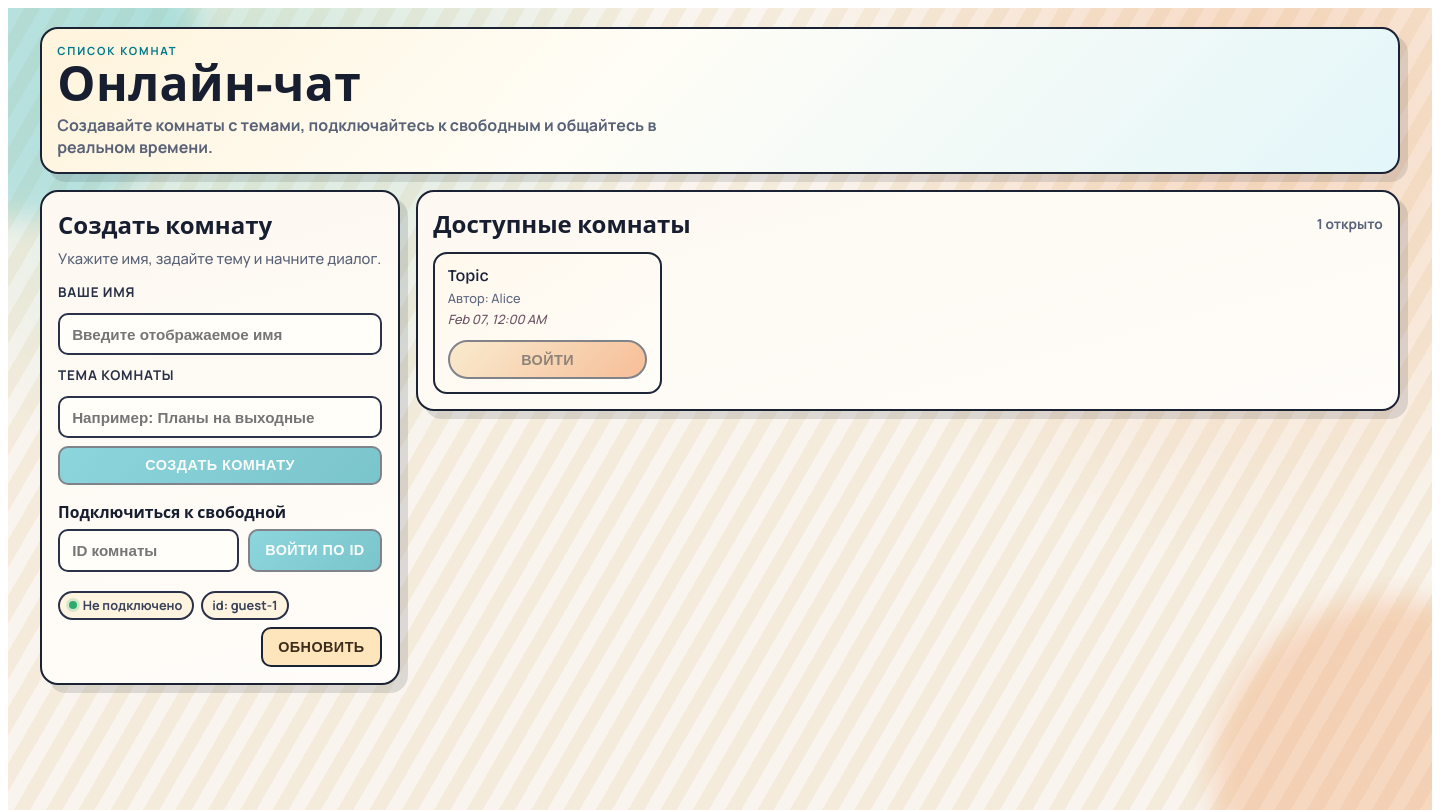
Test: App › renders participant disconnected system event in room chat
This screenshot has width=1440, height=810.
Type "Bob" into the field with id "user-name" at {"x": 220, "y": 334}, box [58,313,382,355]
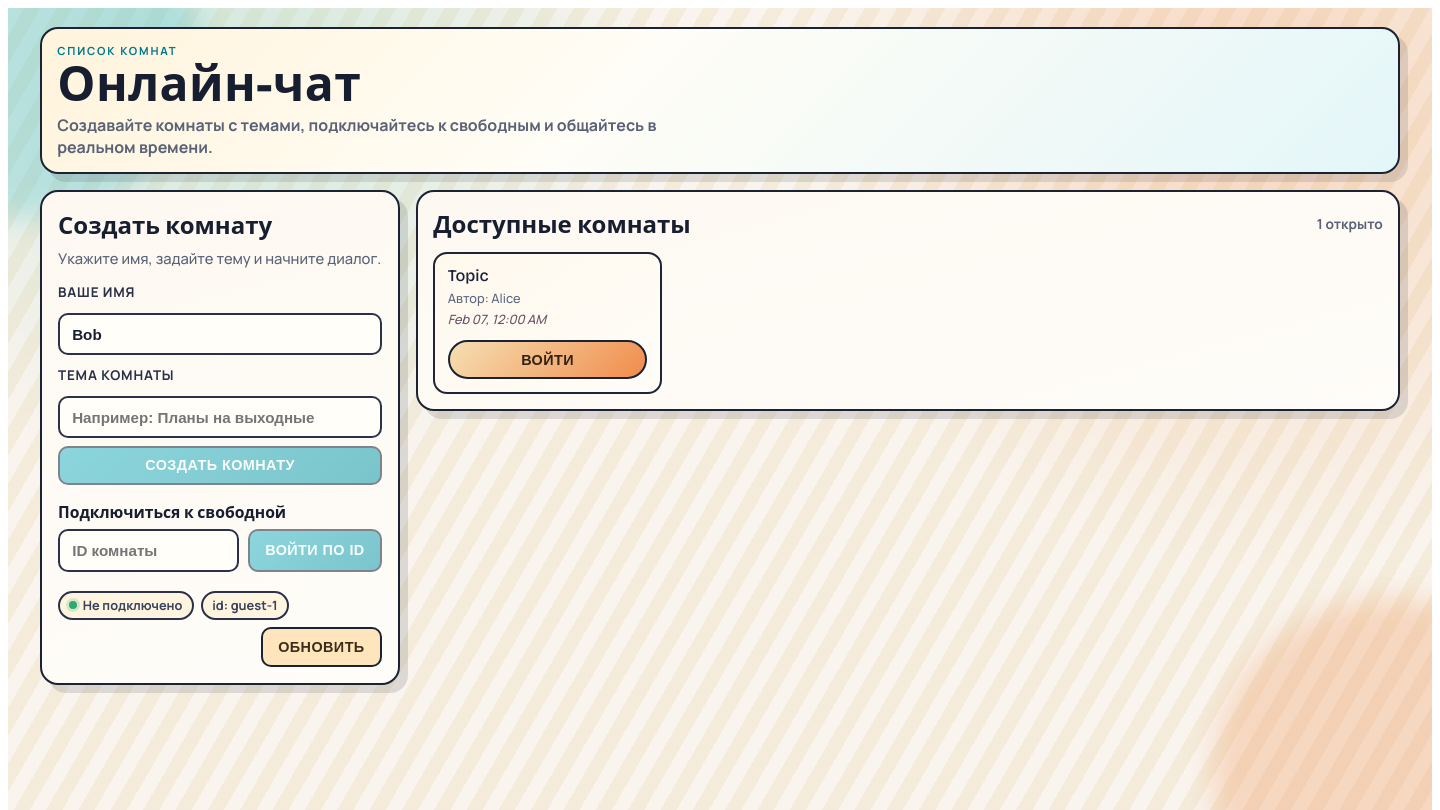
Click the button "Войти" at {"x": 548, "y": 360}, box [448,340,648,379]
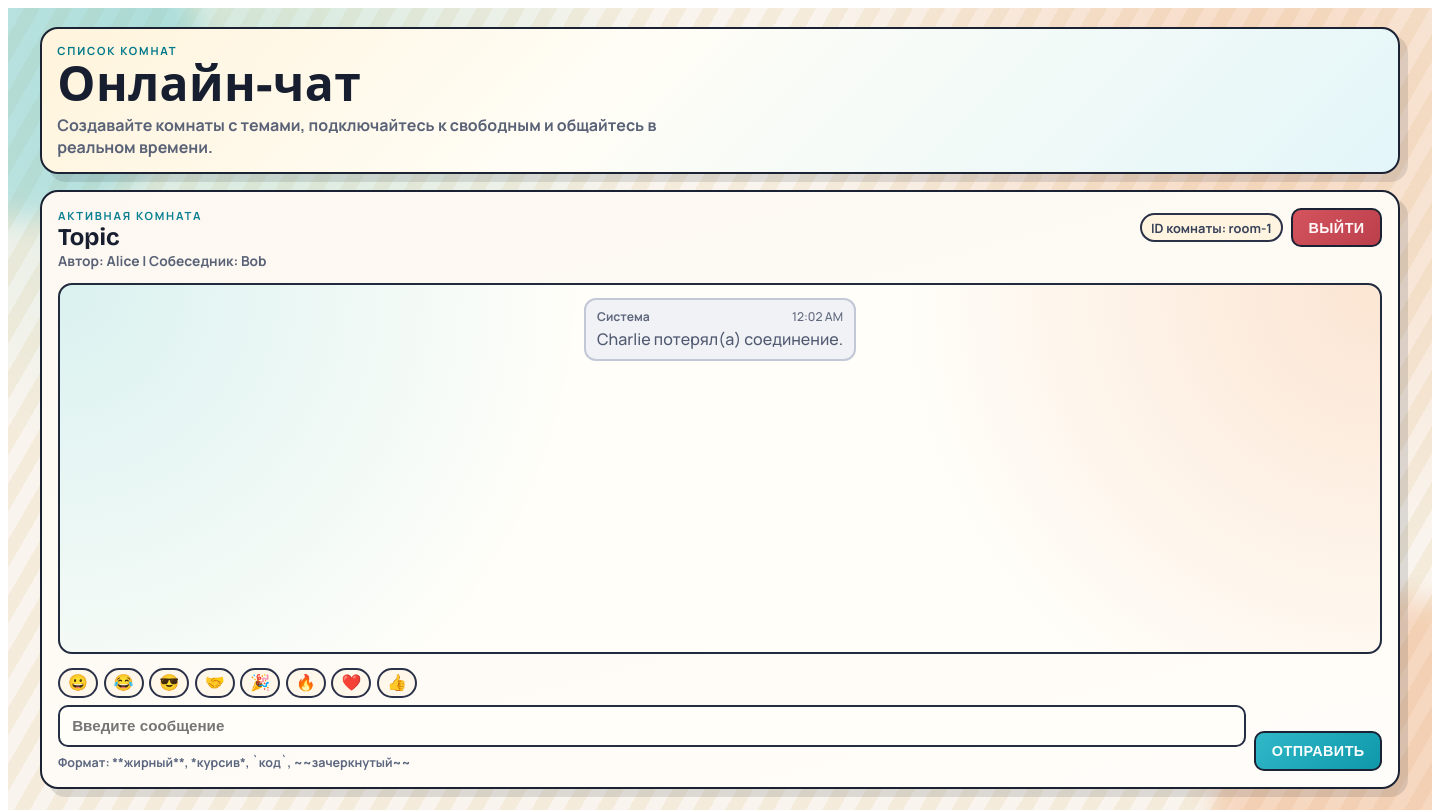
Result: the text "Charlie потерял(а) соединение." is shown at [597,328,843,350]
